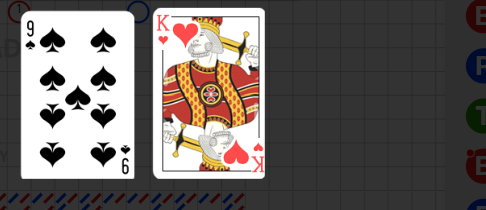9S: (118, 142, 131, 175)
KH: (250, 140, 264, 174)
